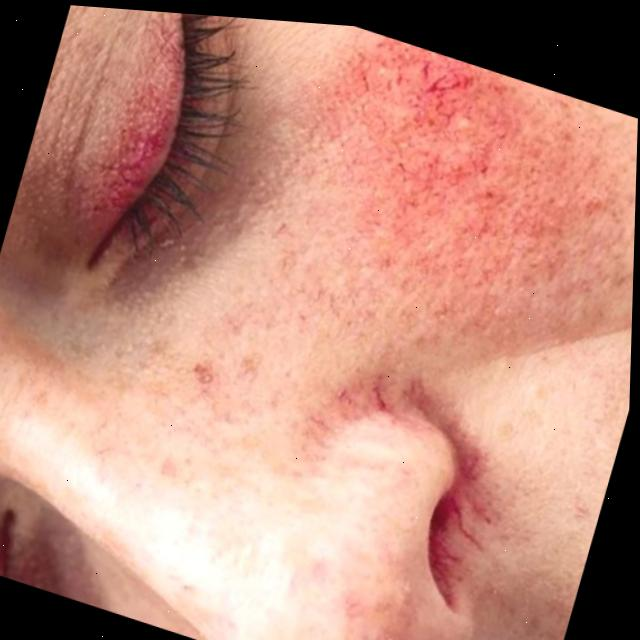Rosacea: (248, 19, 601, 368)
